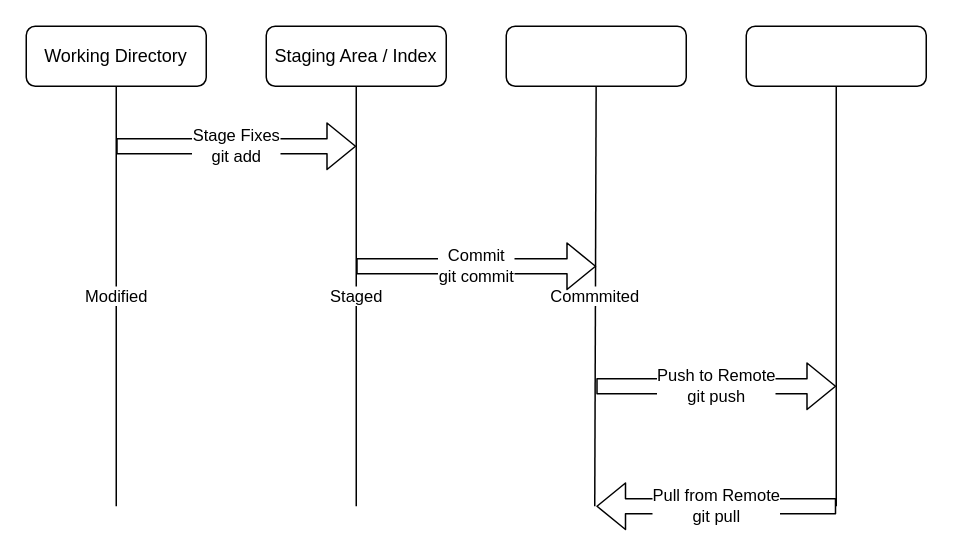
This 953x557 diagram has some shape labels left out. Each missing label, with the box of its shape:
.git directory (Local Repository): (505, 25, 686, 86)
Remote Repository: (745, 25, 926, 86)
